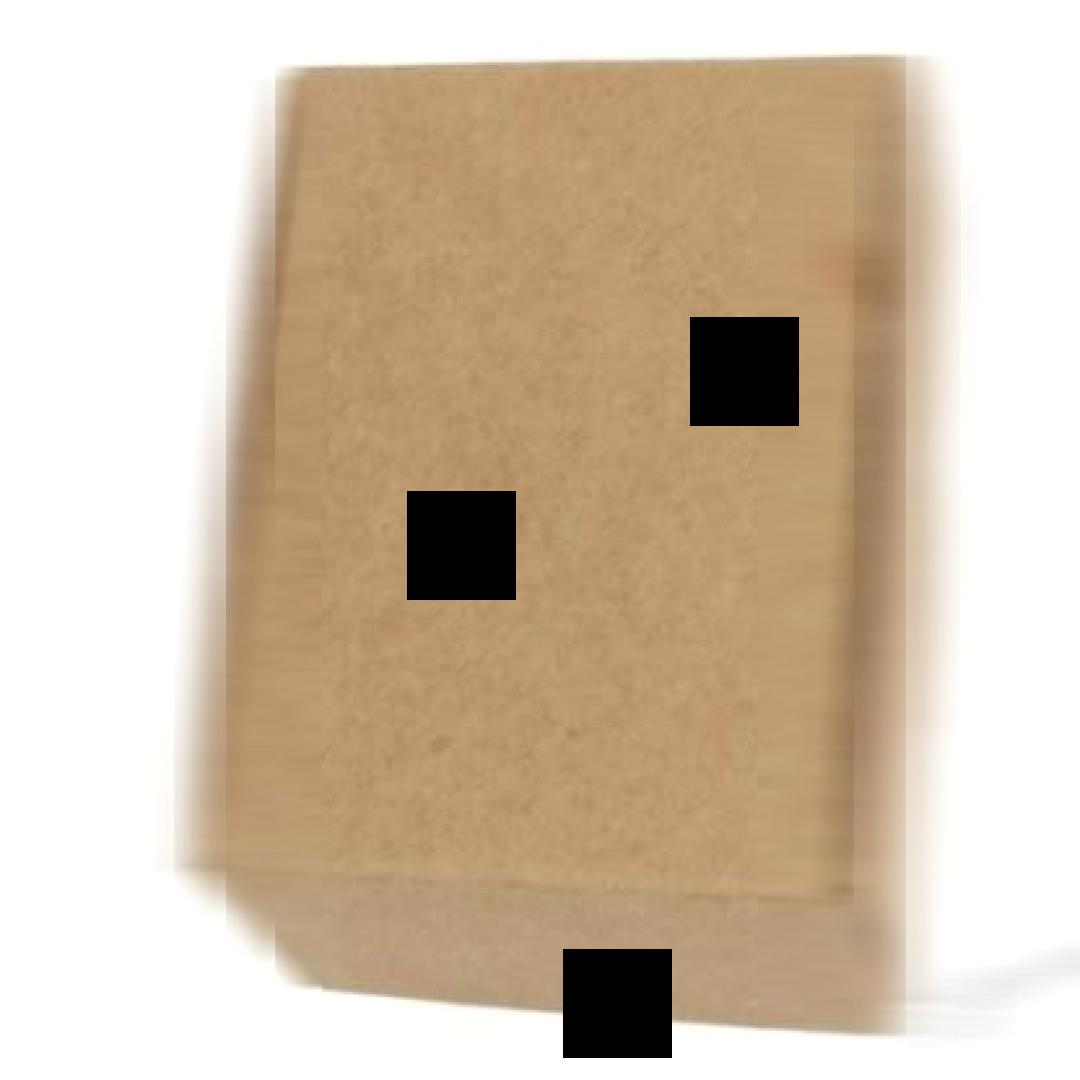package: (192, 54, 943, 1034)
